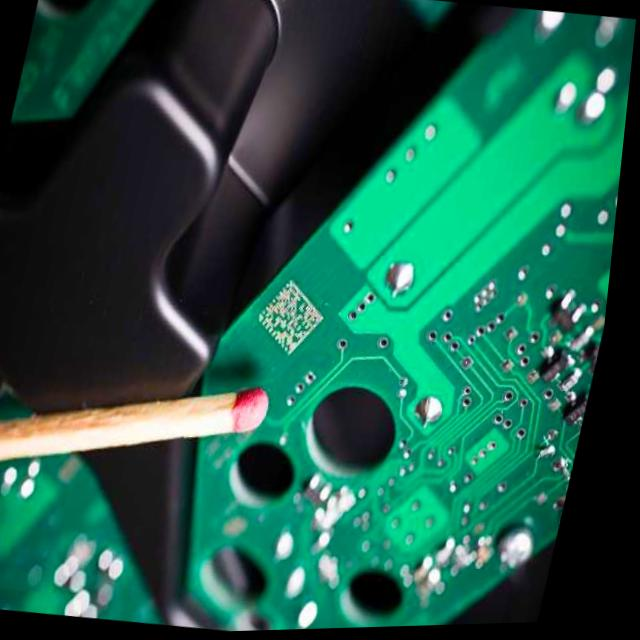datamatrix: (253, 265, 342, 371)
